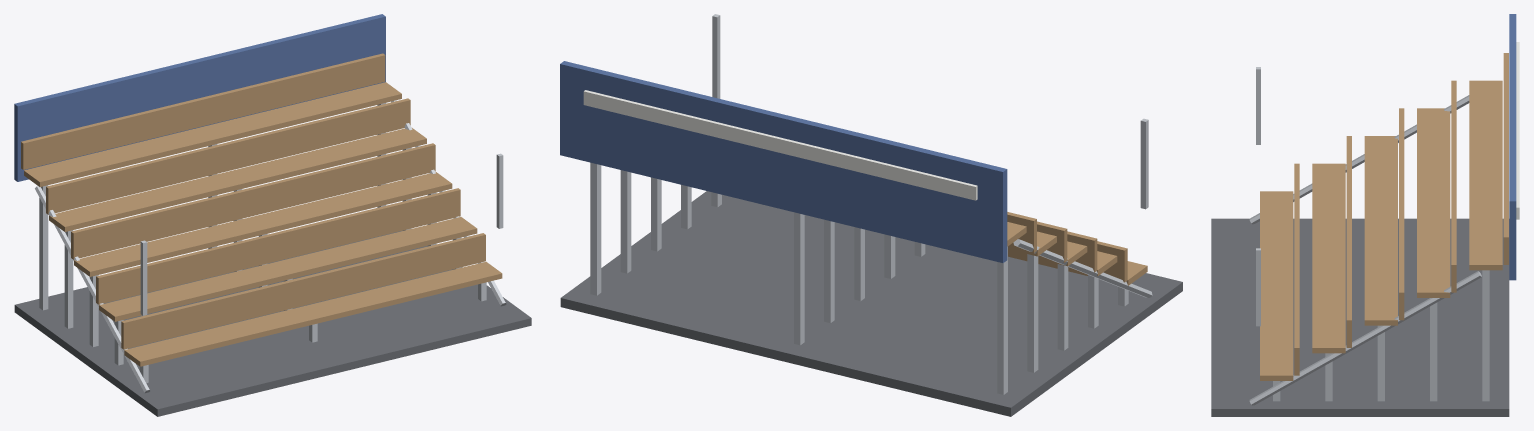
File: baseball-park-and-batting-cages-bleacher-stand-2ab80b42.glb
3 views of the same model, side by side, from view 1: azimuth 30°, elevation 25°; view 2: azimuth 150°, elevation 25°; view 3: azimuth 270°, elevation 25° (orthographic). The views are drawn at different scales.
Visible parts, largest first — view 1: bleacher-stand; view 2: bleacher-stand; view 3: bleacher-stand.
Boxes of the visible parts, bbox=[...] form: bleacher-stand: bbox=[14, 14, 531, 416]; bleacher-stand: bbox=[560, 14, 1182, 416]; bleacher-stand: bbox=[1211, 14, 1519, 416].
Bounding box in the file's own units: 6.2 × 3.25 × 4.25.
